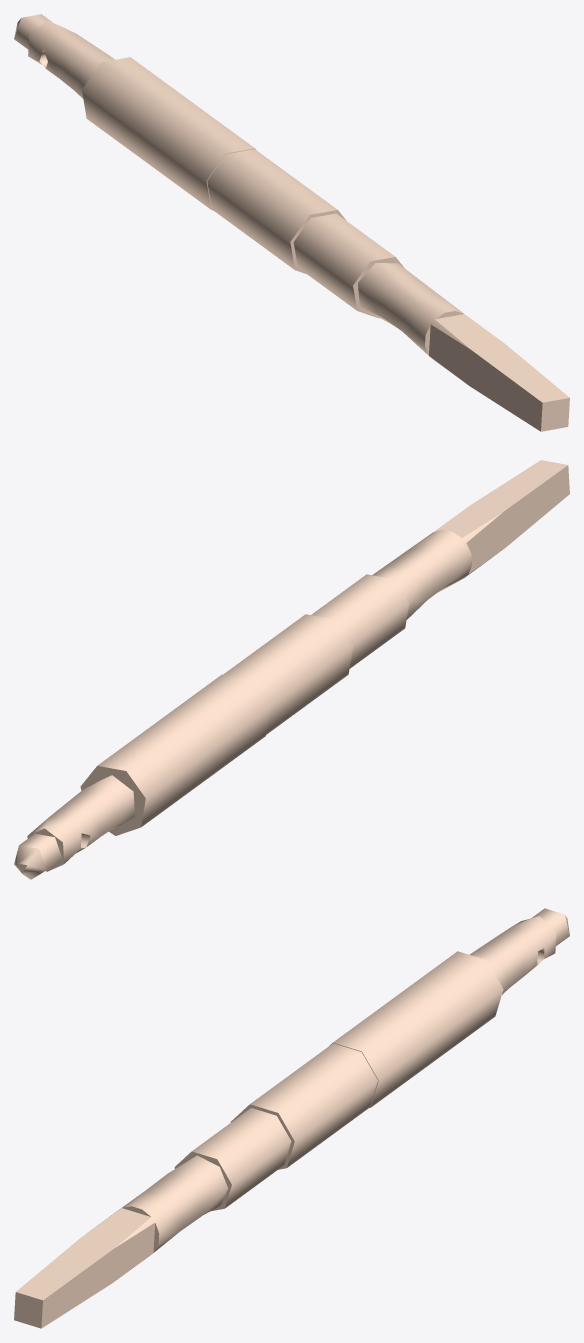
Rendered from Axe barillet_Quarts.obj.
The picture shows the model from 3 angles, top to bottom: view 1: azimuth 30°, elevation 25°; view 2: azimuth 150°, elevation 25°; view 3: azimuth 330°, elevation 25°; orthographic projection.
Visible parts, largest first — view 1: Face_10, Face_12, Face_14, Face_16, Face_20, Face_22, Face_8, Face_18, Face_6; view 2: Face_10, Face_12, Face_14, Face_16, Face_8, Face_20, Face_22, Face_9, Face_6, Face_5; view 3: Face_10, Face_12, Face_14, Face_16, Face_22, Face_21, Face_8, Face_18, Face_6.
Boxes of the visible parts, <box> form: Face_10: <box>82,57,254,209</box>; Face_12: <box>207,149,337,269</box>; Face_14: <box>293,213,395,310</box>; Face_16: <box>358,263,463,356</box>; Face_20: <box>429,324,542,431</box>; Face_22: <box>435,314,569,402</box>; Face_8: <box>28,20,114,98</box>; Face_18: <box>541,398,569,431</box>; Face_6: <box>14,14,52,49</box>; Face_10: <box>97,674,270,827</box>; Face_12: <box>223,614,353,734</box>; Face_14: <box>311,574,409,668</box>; Face_16: <box>372,529,471,619</box>; Face_8: <box>28,775,134,863</box>; Face_20: <box>466,465,569,573</box>; Face_22: <box>433,460,567,537</box>; Face_9: <box>80,766,145,835</box>; Face_6: <box>19,833,62,869</box>; Face_5: <box>14,845,46,879</box>; Face_10: <box>333,951,503,1107</box>; Face_12: <box>250,1043,377,1167</box>; Face_14: <box>192,1108,291,1208</box>; Face_16: <box>122,1155,228,1252</box>; Face_22: <box>16,1208,150,1300</box>; Face_21: <box>41,1223,155,1328</box>; Face_8: <box>469,916,556,994</box>; Face_18: <box>14,1292,42,1328</box>; Face_6: <box>531,908,569,946</box>.
Size of the model in its own units: 0.00954 by 0.00943 by 0.1346.
